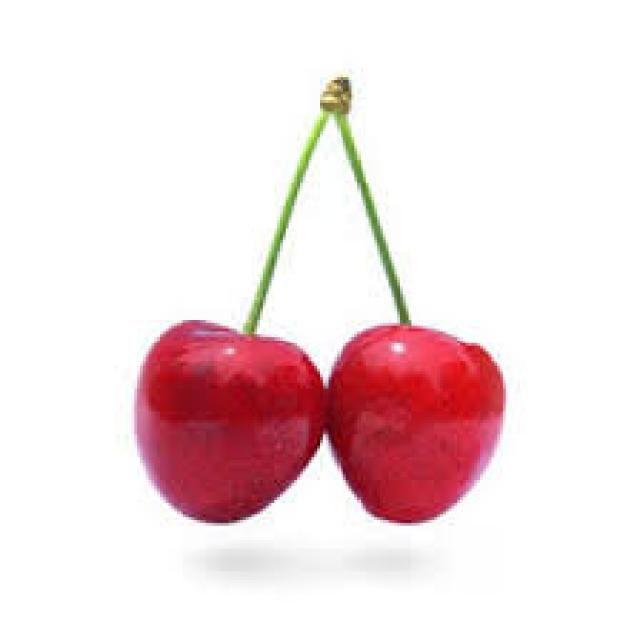organic waste: (128, 74, 506, 526), (131, 314, 326, 526), (326, 320, 506, 526)
